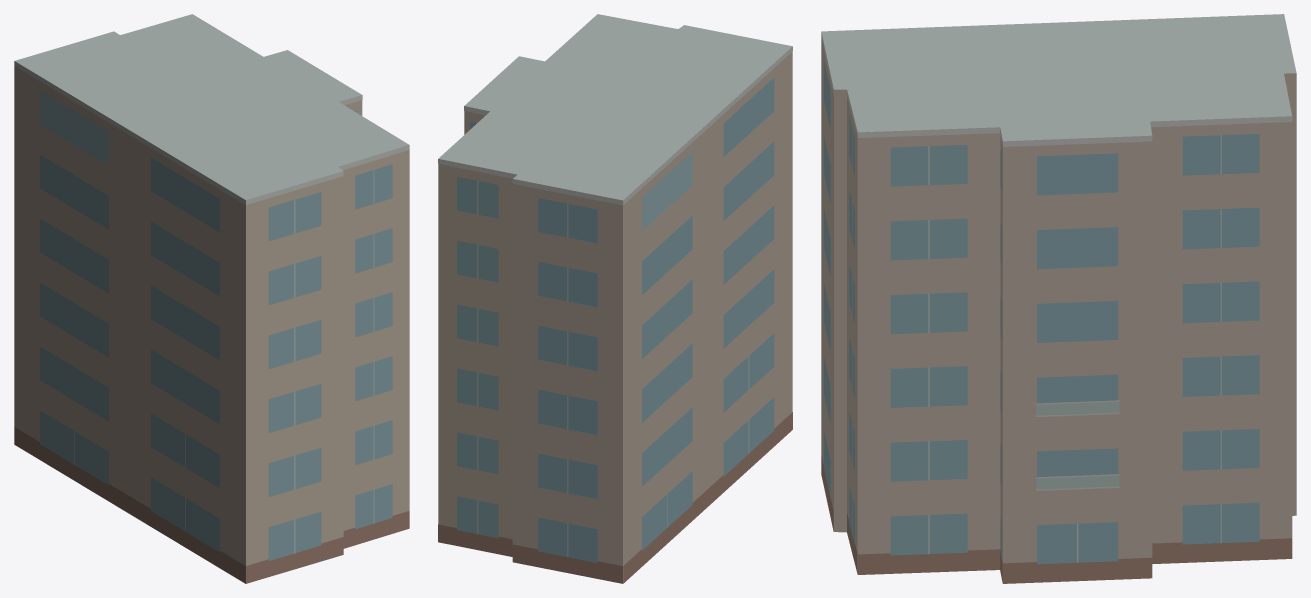
Rendered from survey-upis-32628348.glb.
3 renders of one model, left to right at view 1: azimuth 30°, elevation 25°; view 2: azimuth 150°, elevation 25°; view 3: azimuth 270°, elevation 25°, orthographic. The views are drawn at different scales.
Visible parts, largest first — view 1: survey-upis-32628348.tmp; view 2: survey-upis-32628348.tmp; view 3: survey-upis-32628348.tmp.
Part boxes in pixels (bbox=[...]): survey-upis-32628348.tmp: bbox=[14, 14, 409, 583]; survey-upis-32628348.tmp: bbox=[438, 14, 792, 583]; survey-upis-32628348.tmp: bbox=[821, 14, 1296, 583].
Size of the model in its own units: 11.61 by 18.8 by 18.31.
